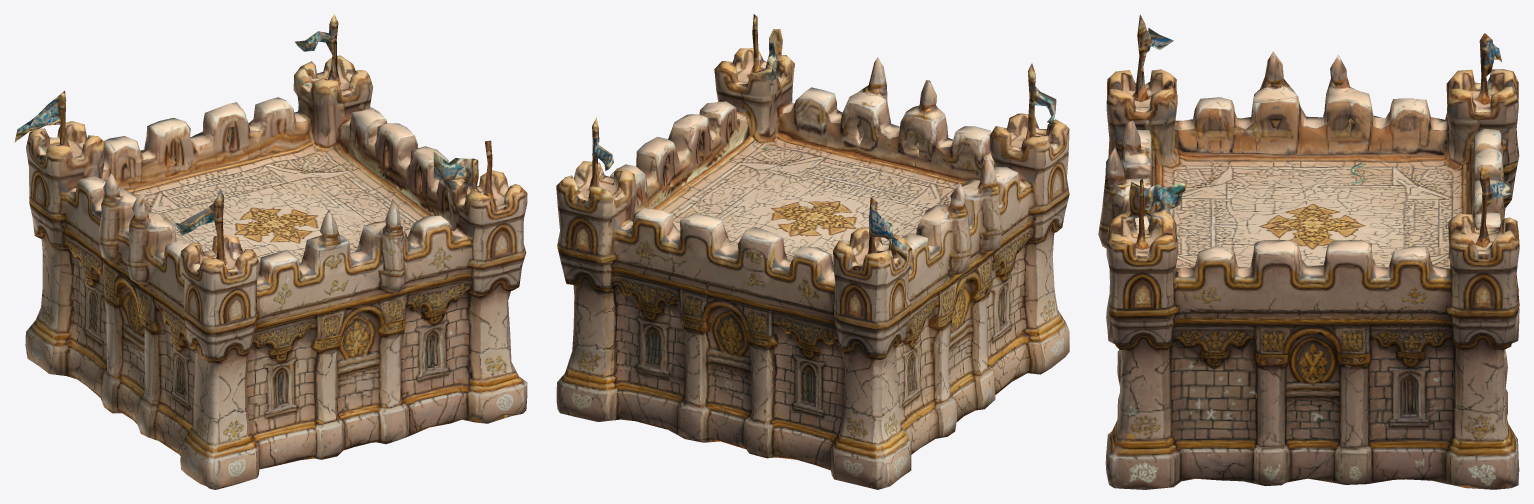
Rendered from 롯데_성기반.glb.
The picture shows the model from 3 angles, left to right: view 1: azimuth 30°, elevation 25°; view 2: azimuth 150°, elevation 25°; view 3: azimuth 270°, elevation 25°; orthographic projection. The views are drawn at different scales.
Visible parts, largest first — view 1: texture_mapping; view 2: texture_mapping; view 3: texture_mapping.
Boxes of the visible parts, left/top/right/bottom form: texture_mapping: left=14, top=14, right=527, bottom=489; texture_mapping: left=556, top=14, right=1069, bottom=489; texture_mapping: left=1098, top=14, right=1519, bottom=489.
Size of the model in its own units: 0.9128 by 0.7424 by 0.8903.
Materials: 1 (1 with a texture image).
